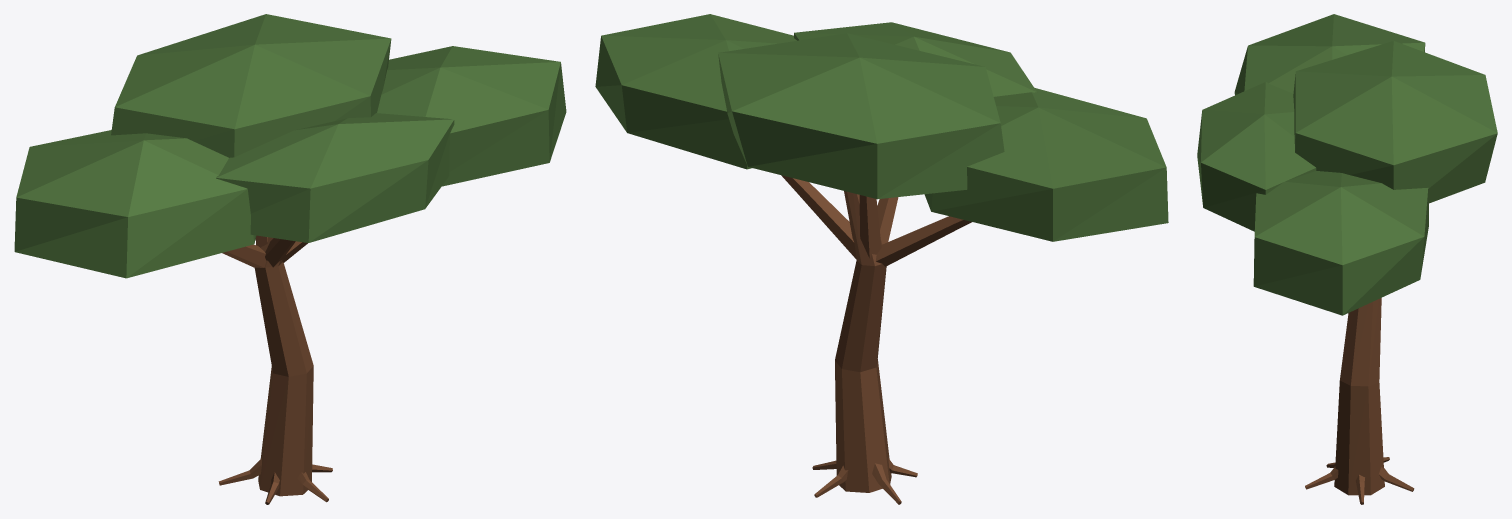
File: Plant_Common_UmbrellaTree_001_LOD1.glb
3 views of the same model, side by side, from view 1: azimuth 30°, elevation 25°; view 2: azimuth 150°, elevation 25°; view 3: azimuth 270°, elevation 25° (orthographic). The views are drawn at different scales.
Parts seen in each view (by area): view 1: Plant_Common_UmbrellaTree_001_LOD1; view 2: Plant_Common_UmbrellaTree_001_LOD1; view 3: Plant_Common_UmbrellaTree_001_LOD1.
Boxes of the visible parts, x1,y1,x2,y2 form: Plant_Common_UmbrellaTree_001_LOD1: (14, 14, 566, 504); Plant_Common_UmbrellaTree_001_LOD1: (595, 14, 1168, 504); Plant_Common_UmbrellaTree_001_LOD1: (1197, 14, 1497, 504).
Bounding box in the file's own units: 7.02 × 5.22 × 3.52.
